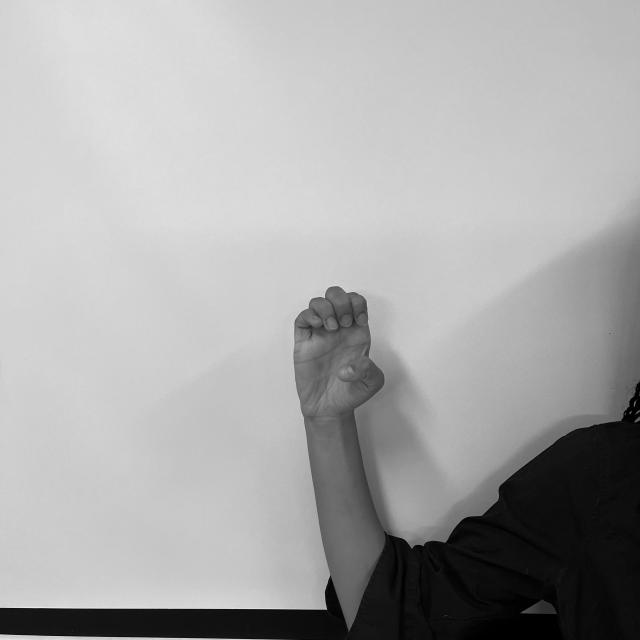Letra E: (288, 282, 388, 423)
